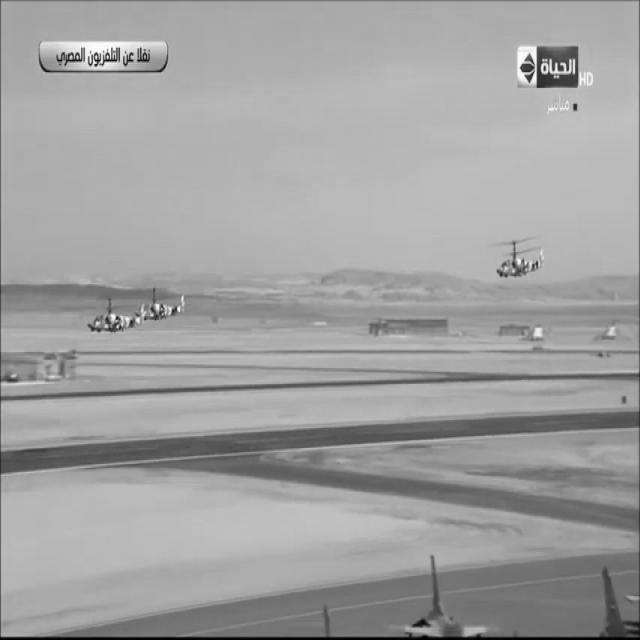helikopter: (92, 277, 214, 352), (491, 221, 552, 307)
